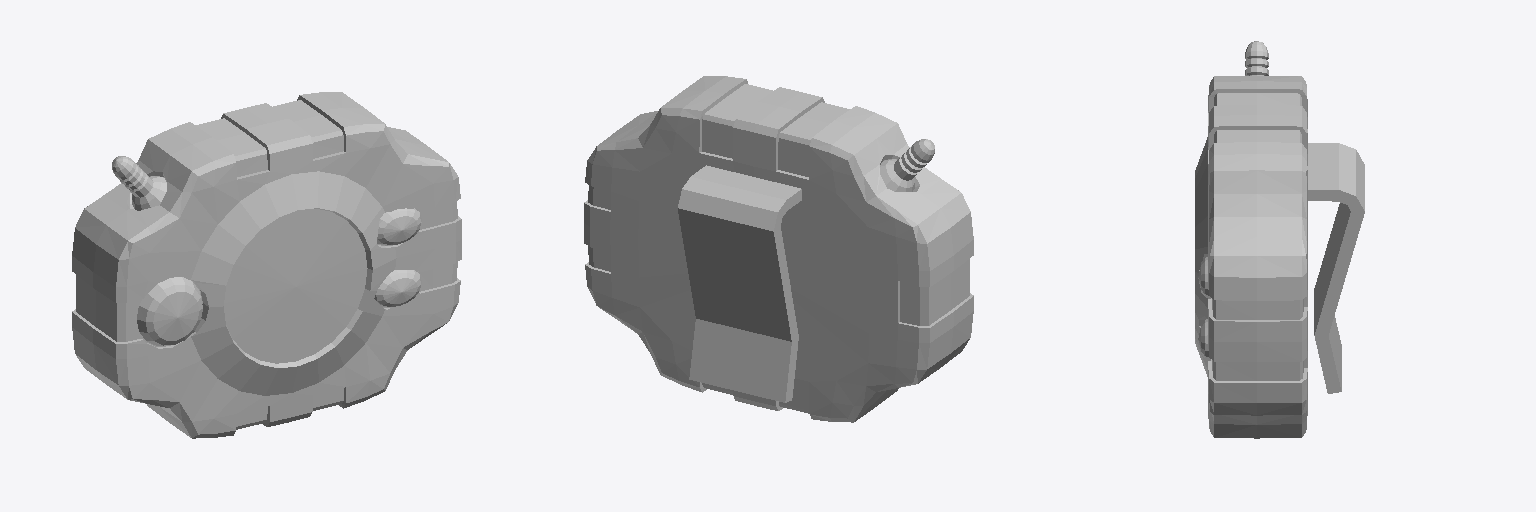
Rendered from Digivice1.obj.
The picture shows the model from 3 angles: view 1: azimuth 30°, elevation 25°; view 2: azimuth 150°, elevation 25°; view 3: azimuth 270°, elevation 25°; orthographic projection.
Parts seen in each view (by area): view 1: rdmobj00; view 2: rdmobj00; view 3: rdmobj00.
Part boxes in pixels (x1,y1,x2,y2): rdmobj00: (72,92,461,438); rdmobj00: (584,76,973,422); rdmobj00: (1195,41,1364,438).
Size of the model in its own units: 0.1192 by 0.0936 by 0.0504.